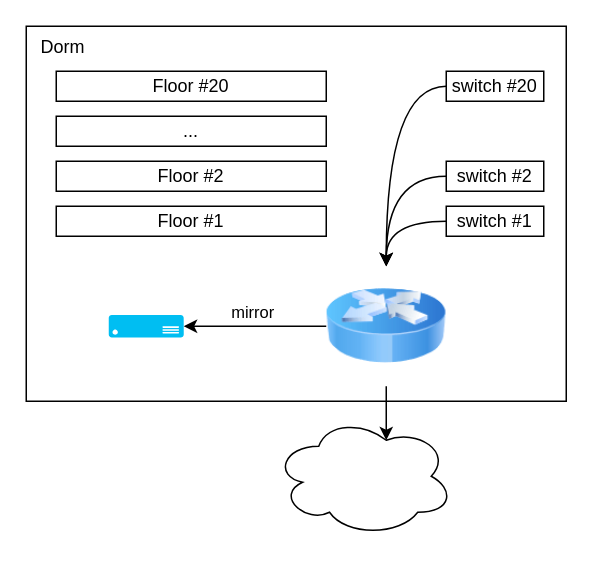
Image size: 593x563. Some labels were removed from this diagram. The shapes that lost their labels are listed below. From the top down, each one's centre as x and y in pixels, then its label:
point 145,325: NAT detector
point 363,475: University network
